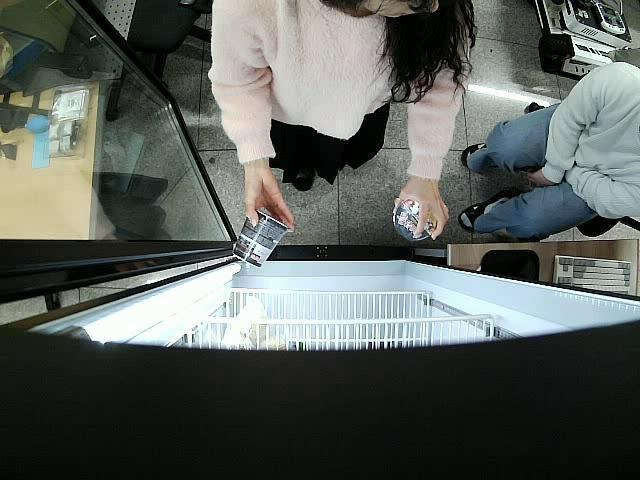08_buldak_S: (232, 209, 288, 268), (394, 196, 433, 240)
